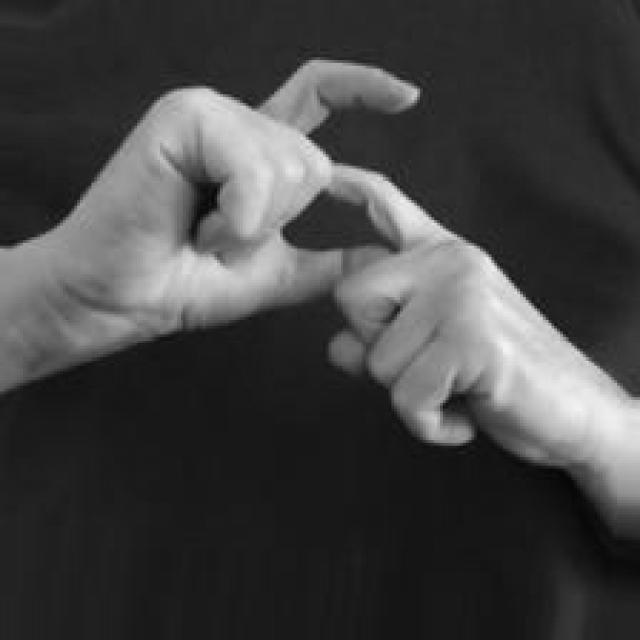G: (59, 56, 600, 470)
